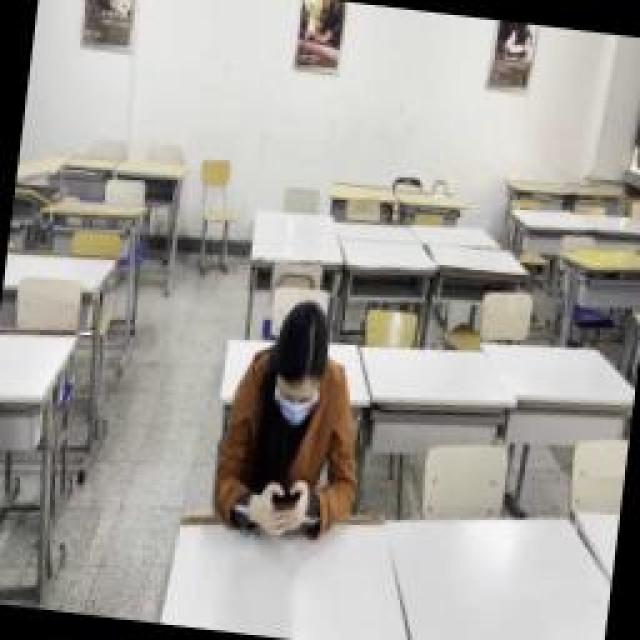phone: (210, 295, 378, 543)
